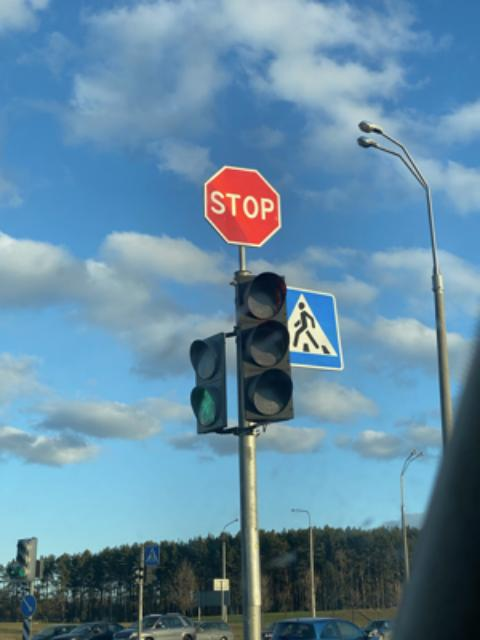crosswalk-sign: (285, 284, 345, 370)
